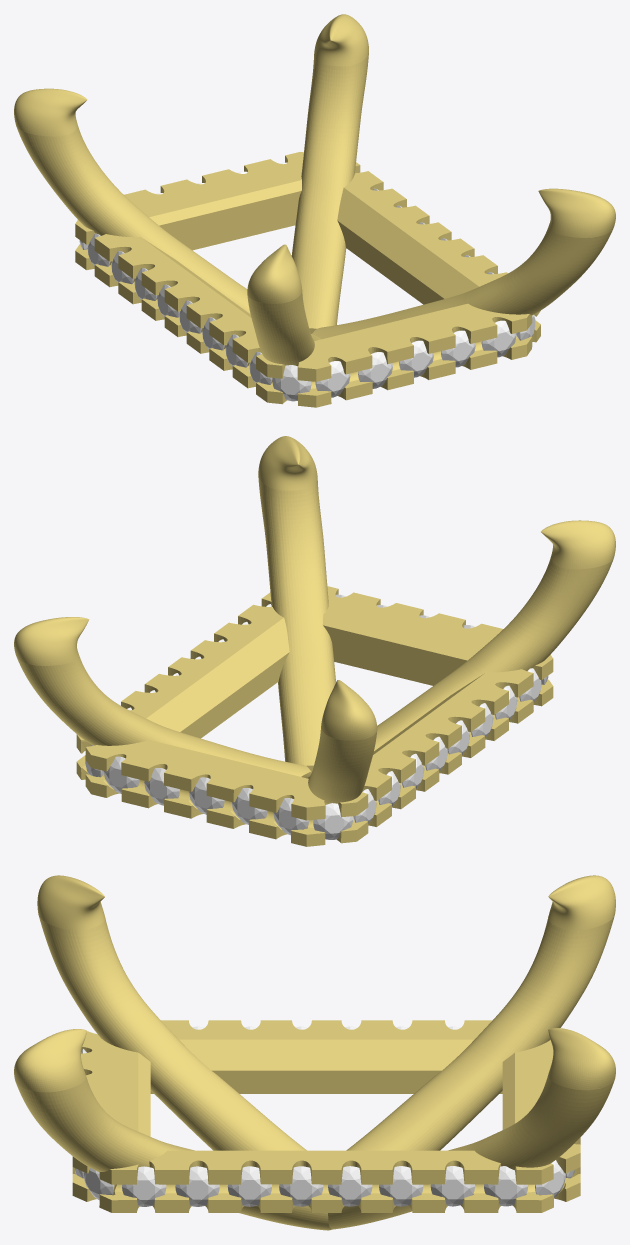
The model's file is JAN027_Head.glb.
The picture shows the model from 3 angles, top to bottom: view 1: azimuth 30°, elevation 25°; view 2: azimuth 150°, elevation 25°; view 3: azimuth 270°, elevation 25°; orthographic projection. The views are drawn at different scales.
Visible parts, largest first — view 1: geometry_0.004, all-diamonds.152, all-diamonds.151, all-diamonds.149, all-diamonds.150, all-diamonds.148, all-diamonds.147; view 2: geometry_0.004, all-diamonds.154, all-diamonds.126, all-diamonds.128, all-diamonds.129, all-diamonds.127, all-diamonds.130; view 3: geometry_0.004, all-diamonds.135, all-diamonds.137, all-diamonds.136, all-diamonds.134, all-diamonds.133, all-diamonds.131, all-diamonds.138, all-diamonds.132, all-diamonds.155, all-diamonds.153.
Boxes of the visible parts, x1,y1,x2,y2 form: geometry_0.004: [14, 14, 615, 407]; all-diamonds.152: [272, 365, 311, 401]; all-diamonds.151: [358, 352, 392, 388]; all-diamonds.149: [441, 330, 475, 367]; all-diamonds.150: [399, 340, 433, 377]; all-diamonds.148: [481, 320, 516, 357]; all-diamonds.147: [315, 361, 350, 397]; geometry_0.004: [14, 436, 615, 846]; all-diamonds.154: [313, 803, 352, 839]; all-diamonds.126: [144, 768, 179, 805]; all-diamonds.128: [231, 788, 267, 824]; all-diamonds.129: [273, 798, 308, 835]; all-diamonds.127: [189, 777, 224, 814]; all-diamonds.130: [103, 756, 139, 793]; geometry_0.004: [14, 875, 615, 1230]; all-diamonds.135: [279, 1166, 323, 1206]; all-diamonds.137: [175, 1166, 219, 1206]; all-diamonds.136: [227, 1166, 271, 1206]; all-diamonds.134: [328, 1166, 372, 1206]; all-diamonds.133: [379, 1166, 423, 1206]; all-diamonds.131: [430, 1166, 474, 1206]; all-diamonds.138: [122, 1166, 166, 1206]; all-diamonds.132: [484, 1166, 528, 1206]; all-diamonds.155: [535, 1160, 565, 1197]; all-diamonds.153: [83, 1168, 114, 1200].
Bounding box in the file's own units: 9.25 × 6.07 × 12.27.
